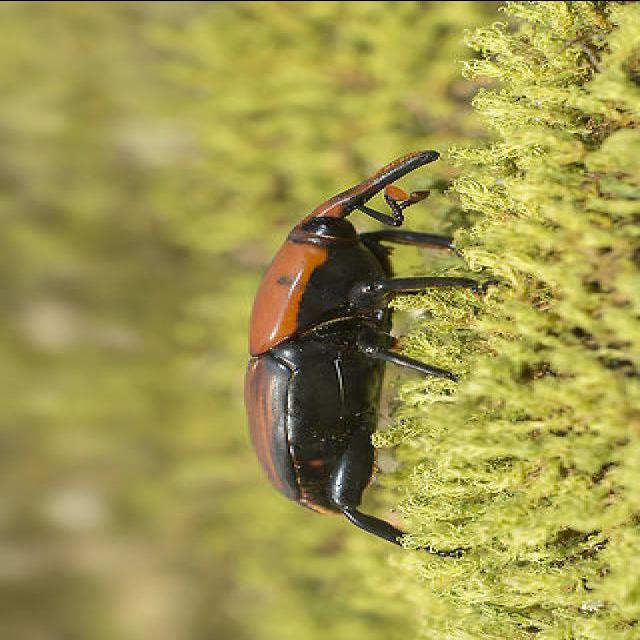Red-palm-weevil: (239, 144, 443, 528)
